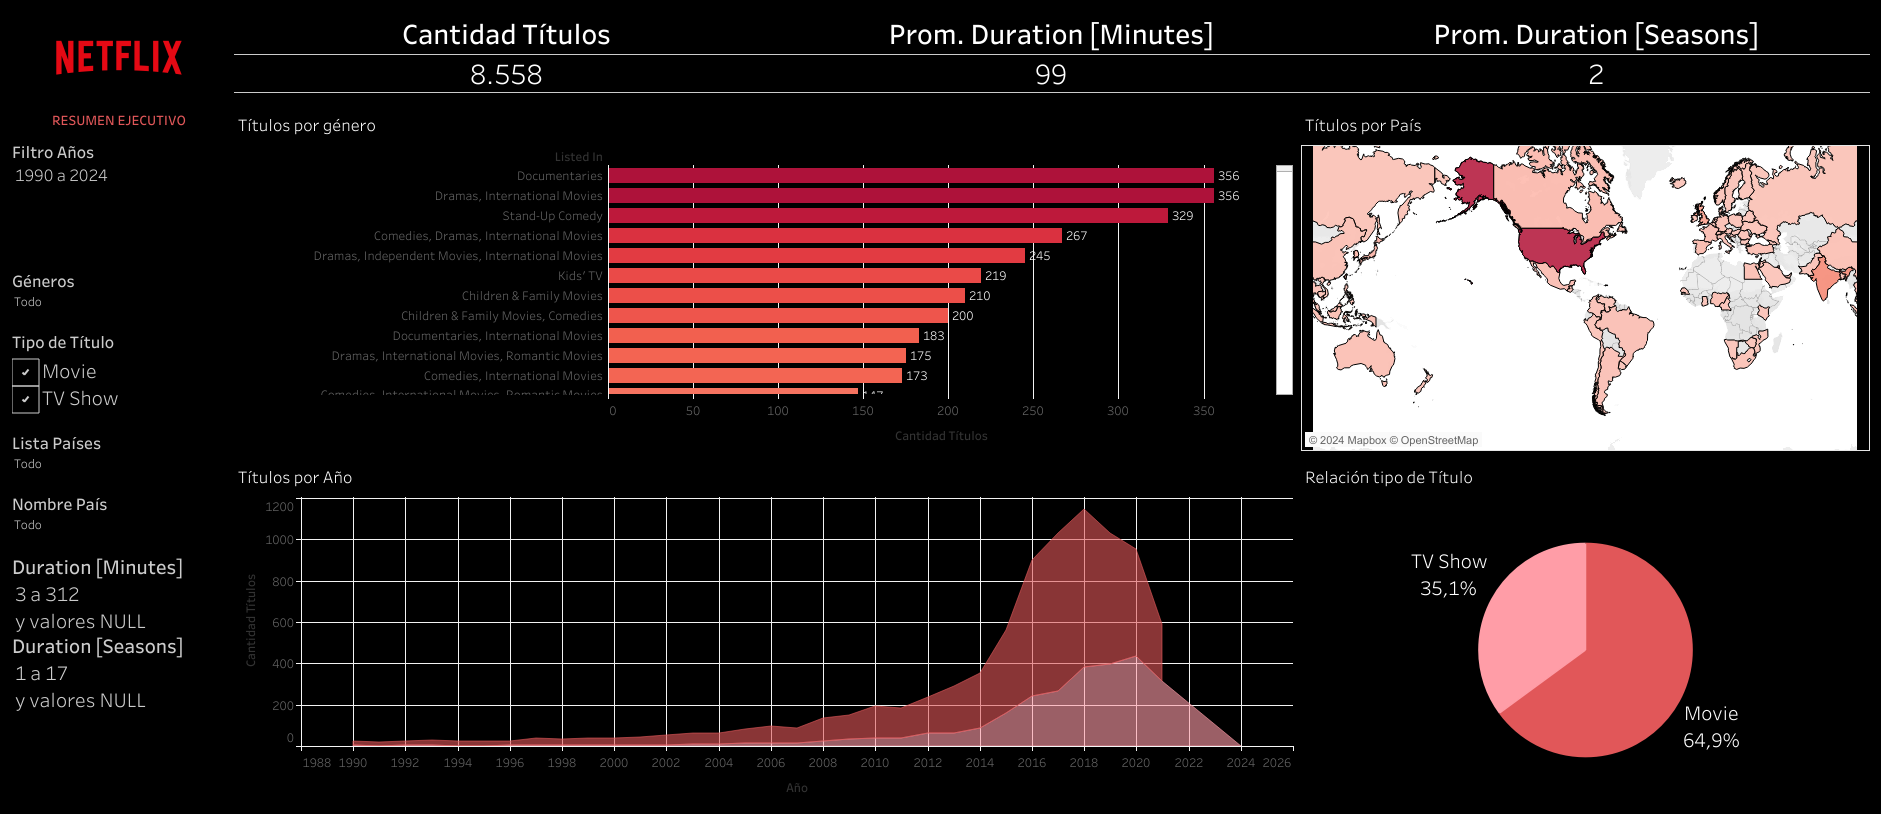

What the dashboard file says about the page in this screenshot:
{"tool":"tableau","page":{"name":"Resumen Ejecutivo","canvas":[1000,1000],"units":"permille","ordinal":0},"visuals":[{"type":"image","param":"Image/1.netflix.png","box":[4.7,10,117.6,116.1]},{"type":"worksheet","title":"KPIs","mark":"Automatic","box":[122.3,10,873,111.1]},{"type":"title","box":[4.7,126.1,117.6,40]},{"type":"worksheet","title":"Género","mark":"Automatic","rows":["listed_in"],"cols":["Calculation_15199694149640392"],"box":[122.3,126.1,566.9,431.8]},{"type":"worksheet","title":"Títulos por País","mark":"Multipolygon","box":[689.2,126.1,306.1,432.4]},{"type":"filter","title":"Títulos por Año","param":"[federated.15btwf1176jlv81d6whtg15a40k9].[none:release_year:qk]","box":[4.7,166,117.6,161.1]},{"type":"filter","title":"Género","param":"[federated.15btwf1176jlv81d6whtg15a40k9].[none:listed_in:nk]","box":[4.7,327.1,117.6,76.2]},{"type":"filter","title":"Género torta","param":"[federated.15btwf1176jlv81d6whtg15a40k9].[none:type:nk]","box":[4.7,403.2,117.6,126.1]},{"type":"filter","title":"Títulos por País","param":"[federated.15btwf1176jlv81d6whtg15a40k9].[none:country:nk]","box":[4.7,529.3,117.6,76.2]},{"type":"worksheet","title":"Títulos por Año","mark":"Area","rows":["Calculation_15199694149640392"],"cols":["release_year"],"box":[122.3,557.9,566.9,432.1]},{"type":"worksheet","title":"Género torta","mark":"Pie","box":[689.2,558.5,306.1,431.6]},{"type":"filter","title":"Género","param":"[federated.15btwf1176jlv81d6whtg15a40k9].[none:country:nk]","box":[4.7,605.5,117.6,76.2]},{"type":"filter","title":"Género torta","param":"[federated.15btwf1176jlv81d6whtg15a40k9].[none:Calculation_14988587884474626:qk]","box":[4.7,681.6,117.6,98.6]},{"type":"filter","title":"Género torta","param":"[federated.15btwf1176jlv81d6whtg15a40k9].[none:Calculation_14988587884720387:qk]","box":[4.7,780.3,117.6,98.6]}]}

Visuals, with their boxes on the dashboard's canvas, which has no fixed pixel size, in thousandths of its width and height (x1, y1, x2, y2). These are canvas units, not pixel positions in the 1881x814 screenshot, which may show the page scaled, cropped or inside an application window:
image: (left=5, top=10, right=122, bottom=126)
"KPIs" worksheet: (left=122, top=10, right=995, bottom=121)
title: (left=5, top=126, right=122, bottom=166)
"Género" worksheet: (left=122, top=126, right=689, bottom=558)
"Títulos por País" worksheet (Multipolygon marks): (left=689, top=126, right=995, bottom=558)
"Títulos por Año" filter: (left=5, top=166, right=122, bottom=327)
"Género" filter: (left=5, top=327, right=122, bottom=403)
"Género torta" filter: (left=5, top=403, right=122, bottom=529)
"Títulos por País" filter: (left=5, top=529, right=122, bottom=606)
"Títulos por Año" worksheet (Area marks): (left=122, top=558, right=689, bottom=990)
"Género torta" worksheet (Pie marks): (left=689, top=558, right=995, bottom=990)
"Género" filter: (left=5, top=606, right=122, bottom=682)
"Género torta" filter: (left=5, top=682, right=122, bottom=780)
"Género torta" filter: (left=5, top=780, right=122, bottom=879)
